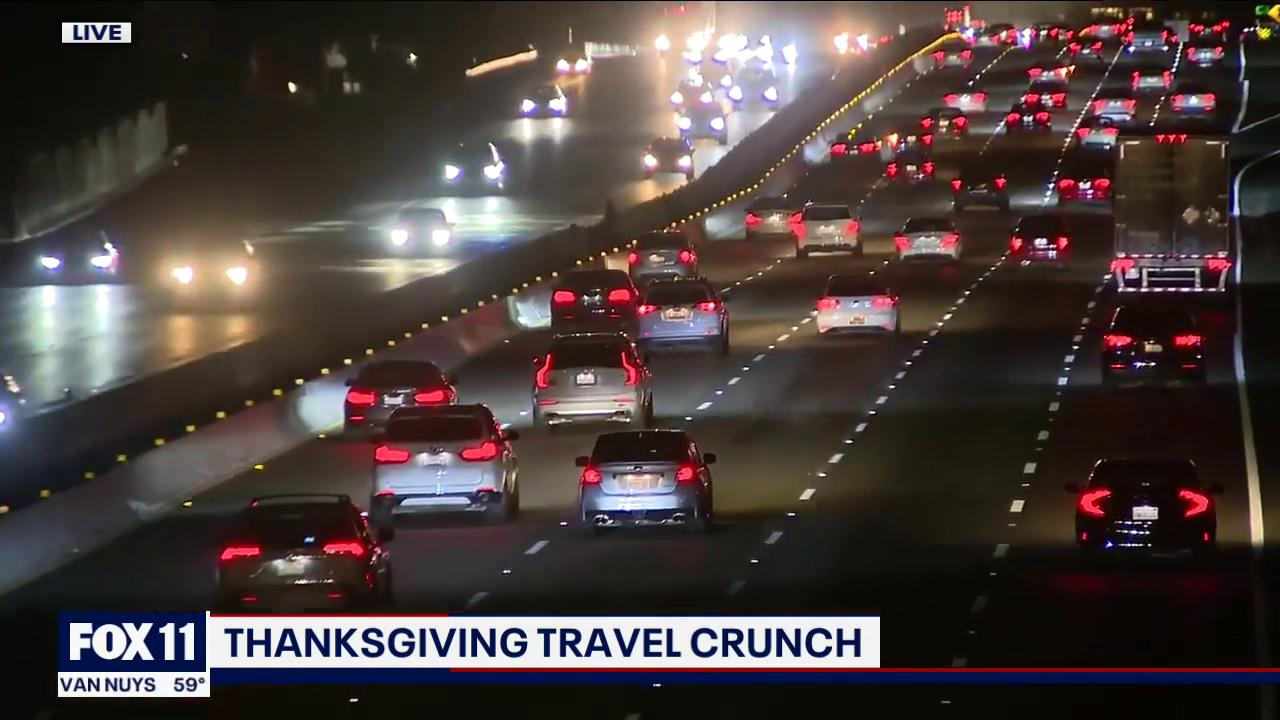car: (1107, 132, 1236, 297), (212, 492, 396, 602), (364, 402, 526, 516), (1070, 448, 1226, 556), (576, 426, 722, 524), (532, 334, 656, 429), (1108, 298, 1207, 389), (340, 359, 459, 431), (630, 276, 732, 351), (550, 270, 638, 327), (808, 285, 900, 335), (788, 204, 865, 252), (1009, 209, 1071, 266), (894, 215, 965, 261), (629, 229, 697, 275), (390, 205, 455, 252), (643, 139, 697, 180), (745, 196, 797, 233)
